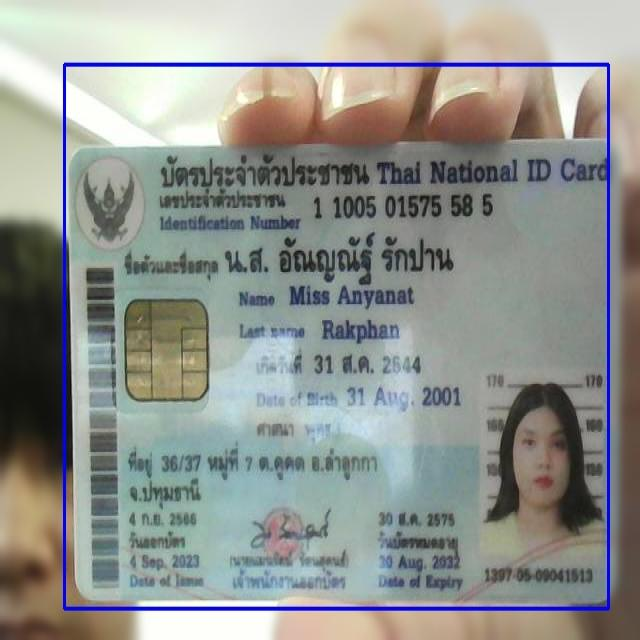Address_th: (120, 437, 384, 512)
Date_of_Birth: (342, 382, 467, 416)
Date_of_Expiry: (376, 547, 466, 577)
Date_of_Issue: (125, 550, 202, 576)
First_Name: (285, 282, 417, 312)
ID_Number: (310, 190, 502, 225)
Image: (482, 362, 609, 568)
Last_Name: (317, 313, 402, 348)
Thai_Name: (222, 230, 462, 286)
